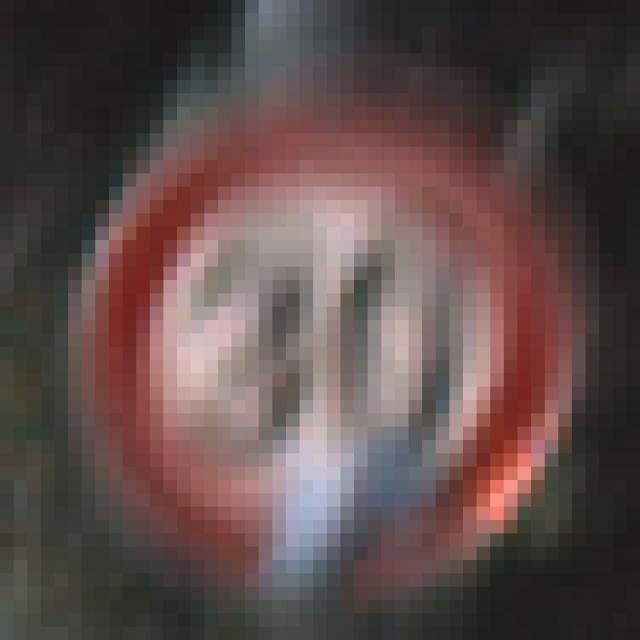Speed Limit -30-: (61, 74, 552, 554)
